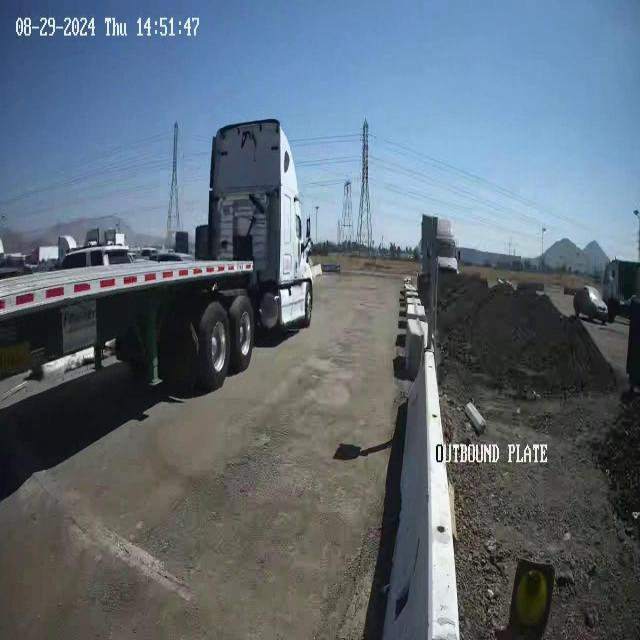TRUCK_IN: (1, 116, 314, 401)
